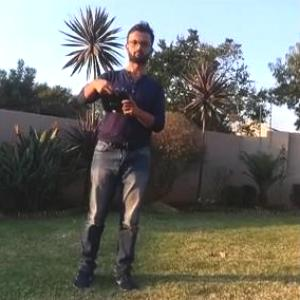follow: (67, 13, 170, 297)
